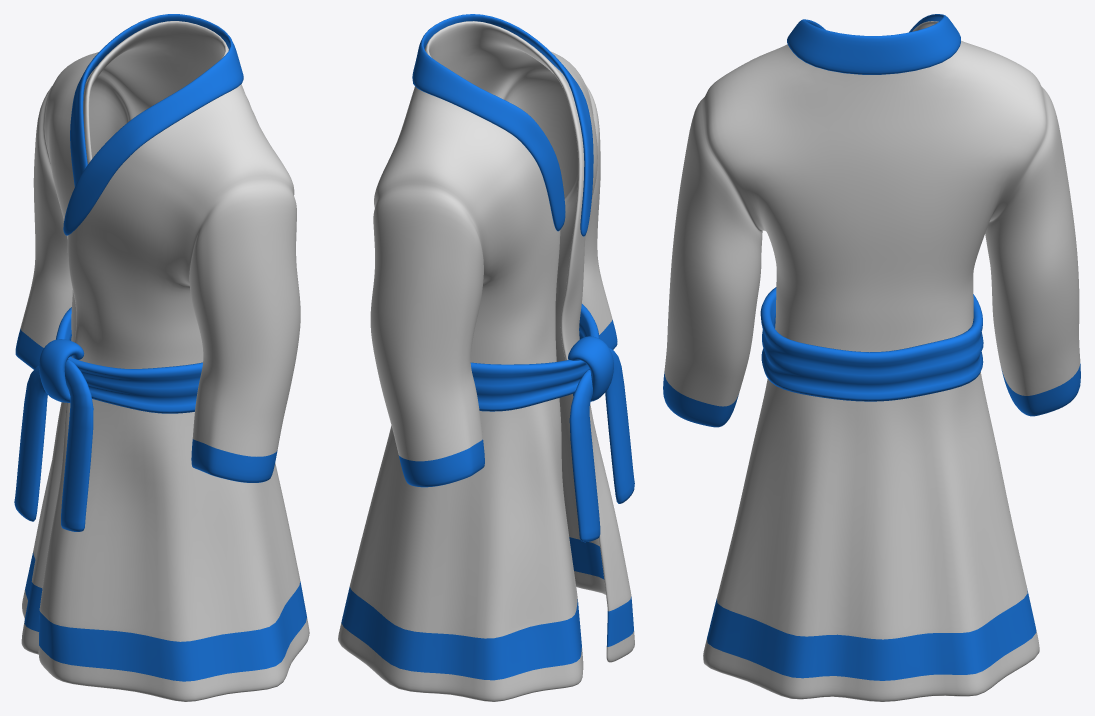
Rendered from bathrobe-3d-animated-icon-42591076.glb.
3 views of the same model, side by side, from view 1: azimuth 30°, elevation 25°; view 2: azimuth 150°, elevation 25°; view 3: azimuth 270°, elevation 25° (orthographic). The views are drawn at different scales.
Visible parts, largest first — view 1: Robe, Cylinder.086; view 2: Robe, Cylinder.086; view 3: Robe, Cylinder.086.
Part boxes in pixels (x1,y1,x2,y2): Robe: [15, 14, 309, 701]; Cylinder.086: [14, 307, 202, 531]; Robe: [338, 14, 634, 701]; Cylinder.086: [470, 304, 634, 542]; Robe: [663, 14, 1080, 701]; Cylinder.086: [760, 287, 983, 401].
Bounding box in the file's own units: 1.96 × 4.64 × 2.73.
